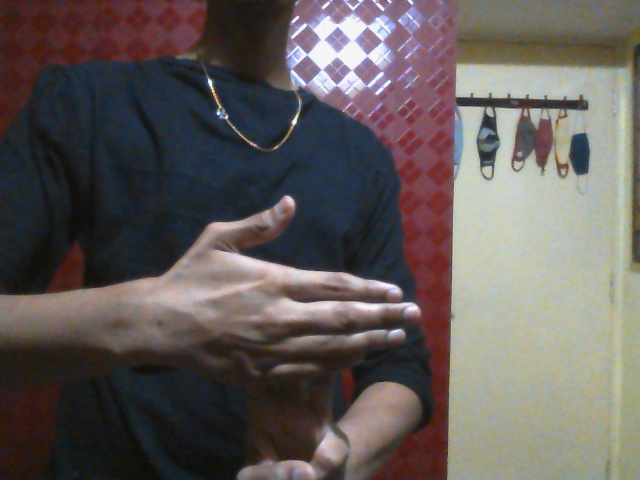M: (159, 197, 425, 480)
